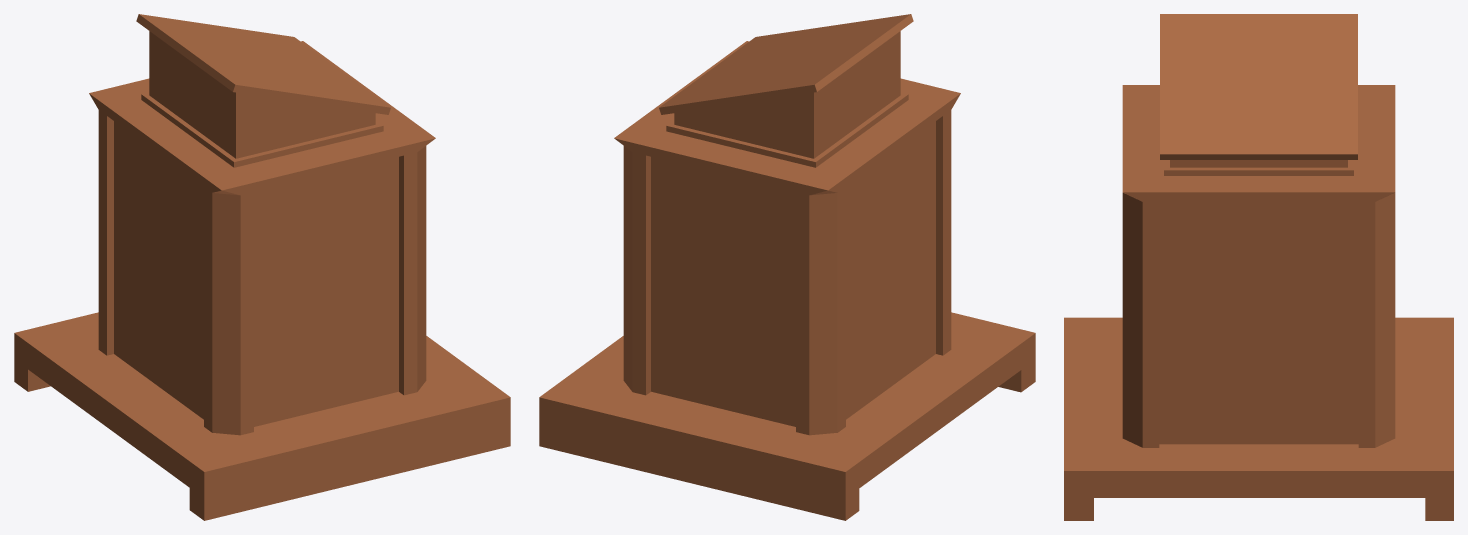
The model's file is pulpito2.fbx.
3 views of the same model, side by side, from view 1: azimuth 30°, elevation 25°; view 2: azimuth 150°, elevation 25°; view 3: azimuth 270°, elevation 25° (orthographic). The views are drawn at different scales.
Parts seen in each view (by area): view 1: Cube; view 2: Cube; view 3: Cube.
Boxes of the visible parts, x1,y1,x2,y2 form: Cube: [14, 14, 510, 520]; Cube: [539, 14, 1035, 520]; Cube: [1064, 14, 1453, 520].
Size of the model in its own units: 124 by 148 by 134.
